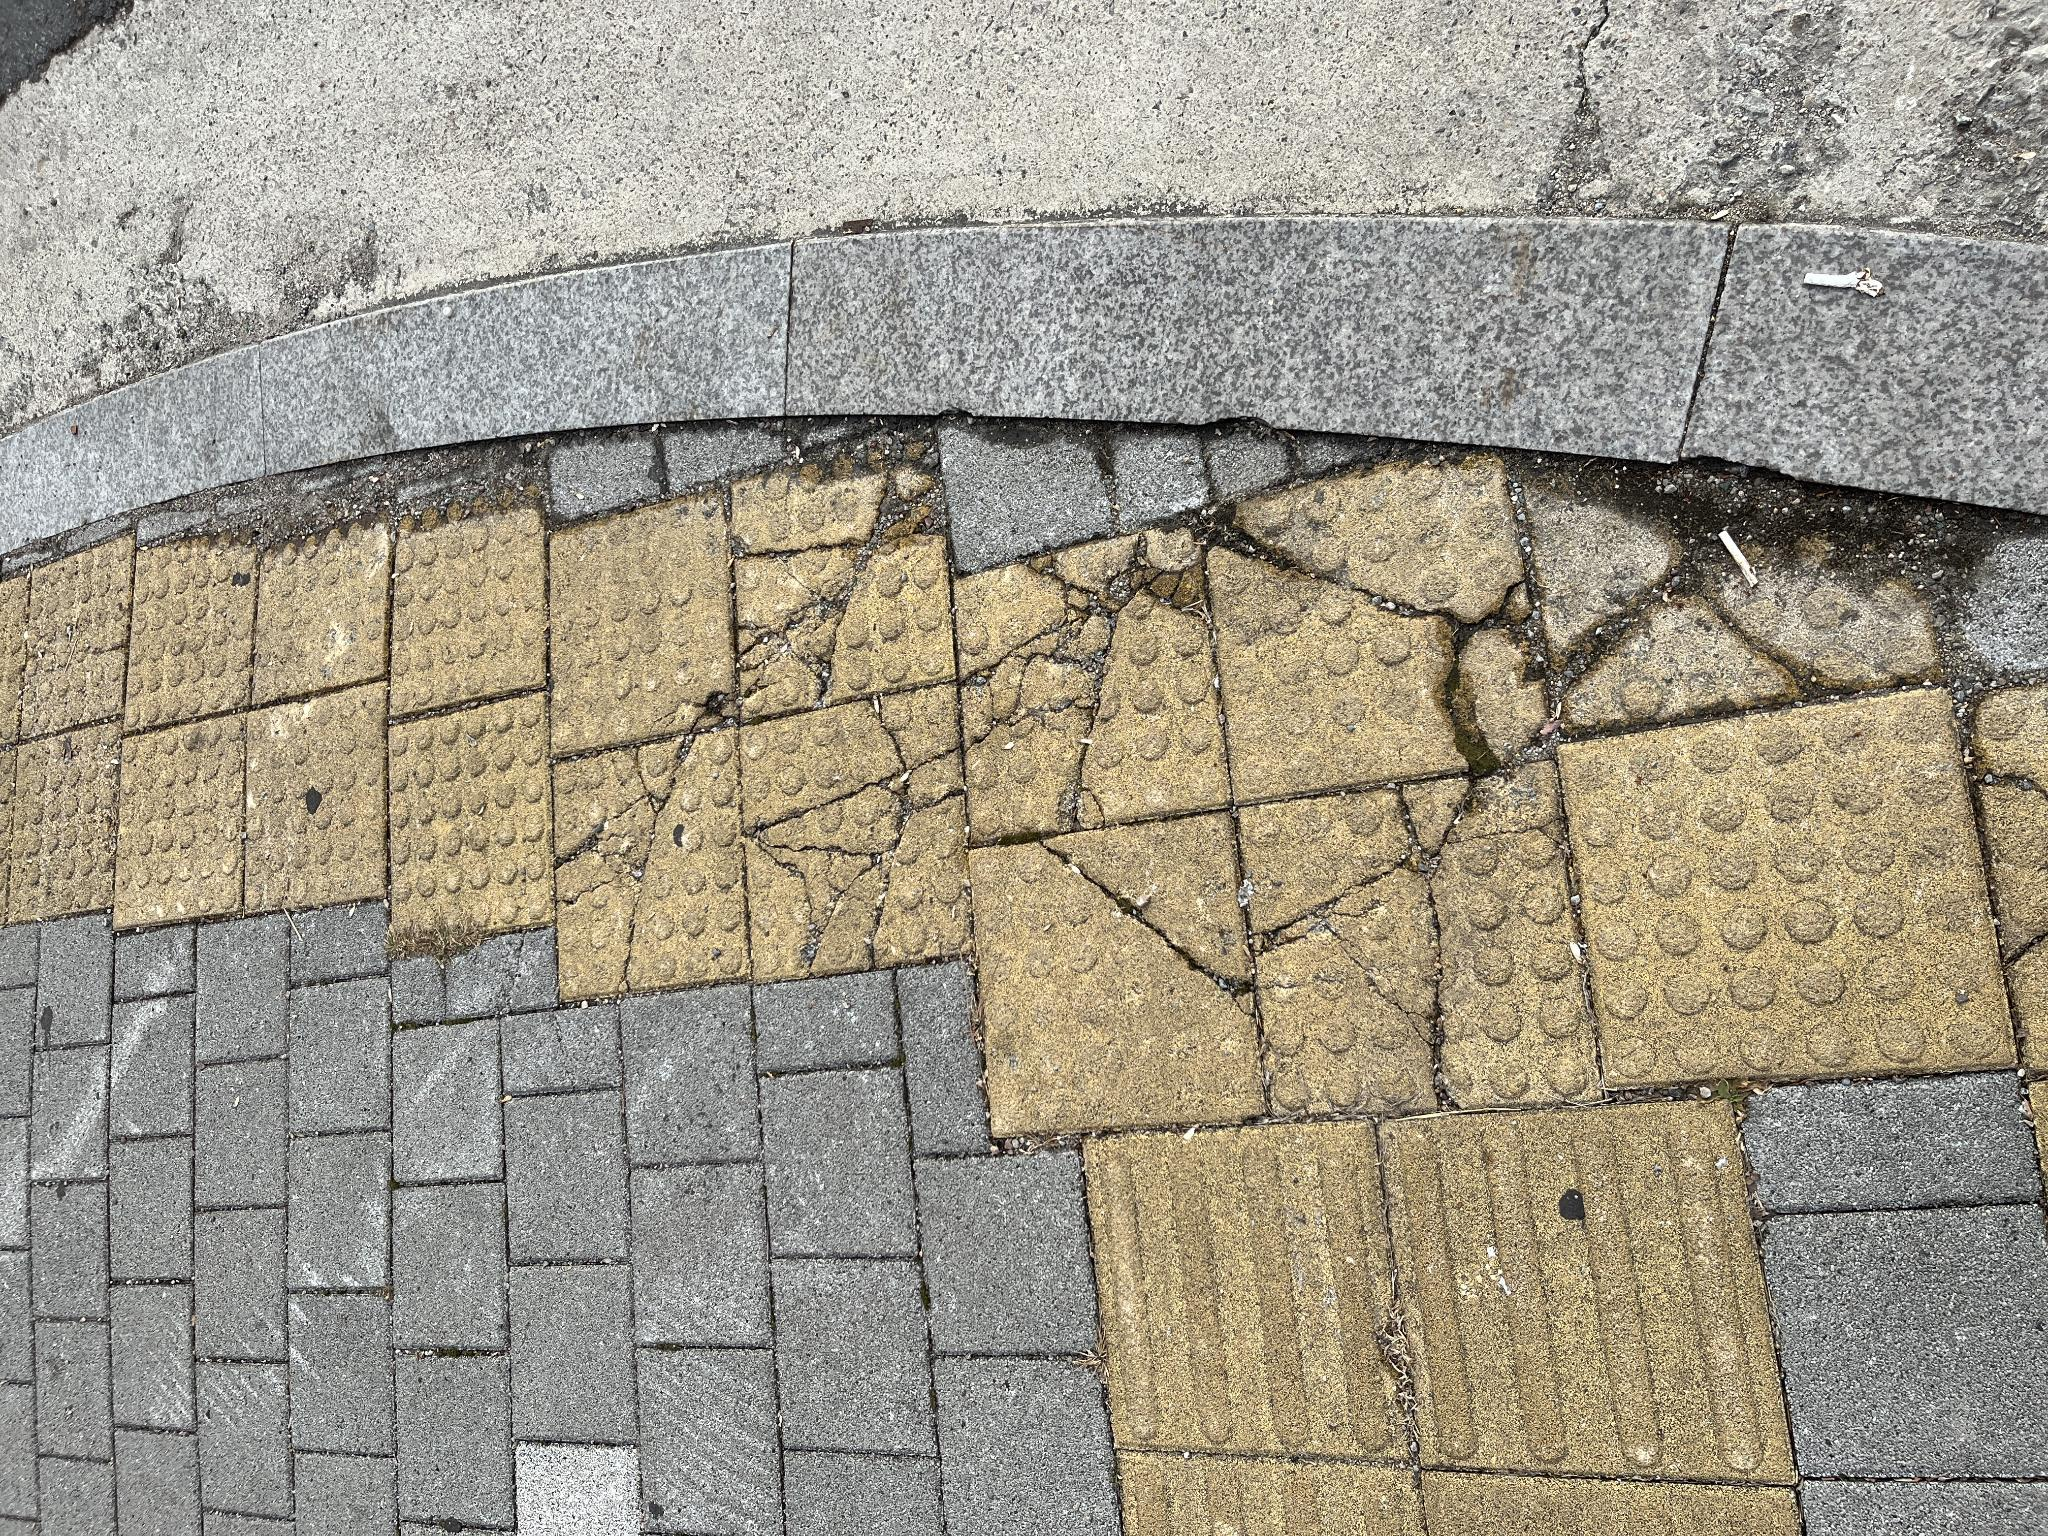Stop block broken: (737, 1200, 1101, 1536), (419, 1239, 772, 1536), (402, 975, 719, 1258), (698, 958, 1011, 1225), (560, 744, 850, 963), (818, 731, 1106, 947), (539, 555, 811, 744)
Stop block normal: (598, 392, 842, 550)
